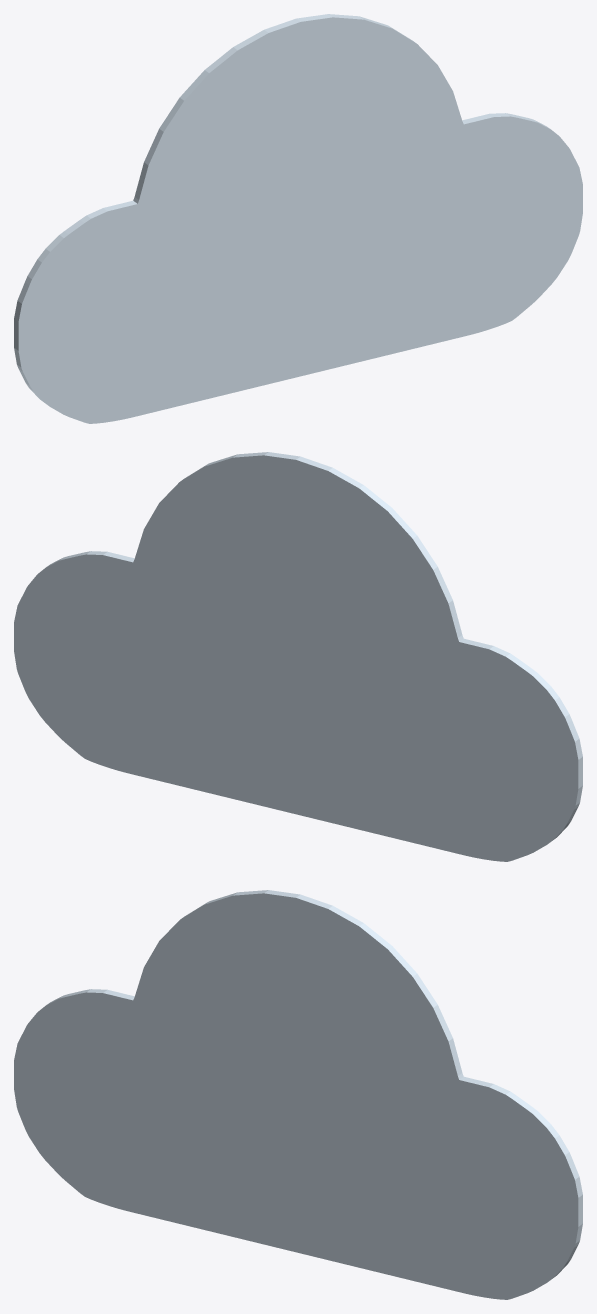
The model's file is Cloud_3D_Icon.fbx.
3 views of the same model, one above another, from view 1: azimuth 30°, elevation 25°; view 2: azimuth 150°, elevation 25°; view 3: azimuth 330°, elevation 25° (orthographic).
Parts seen in each view (by area): view 1: Cloud_3D_Icon; view 2: Cloud_3D_Icon; view 3: Cloud_3D_Icon.
Part boxes in pixels (left/top/right/bottom): Cloud_3D_Icon: left=14, top=14, right=582, bottom=423; Cloud_3D_Icon: left=14, top=452, right=582, bottom=861; Cloud_3D_Icon: left=14, top=890, right=582, bottom=1299.
Bounding box in the file's own units: 142 × 85.51 × 2.
